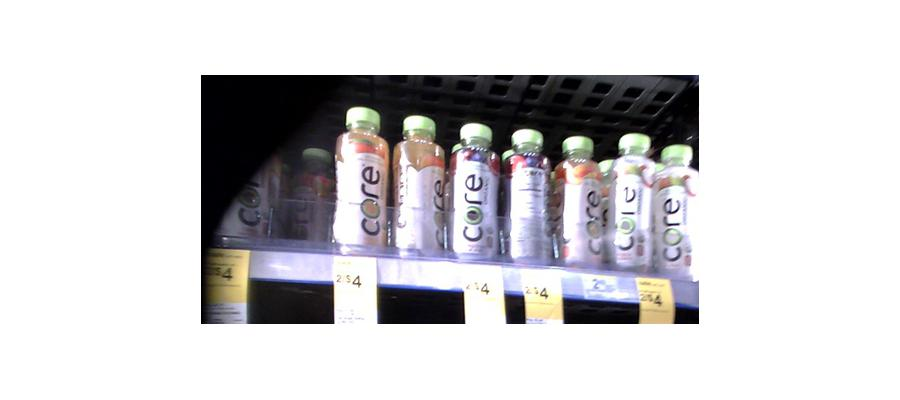bottle: (332, 111, 390, 262), (443, 122, 499, 268), (392, 117, 445, 258), (503, 132, 554, 271), (556, 136, 607, 271), (608, 136, 654, 278), (654, 142, 699, 277)
